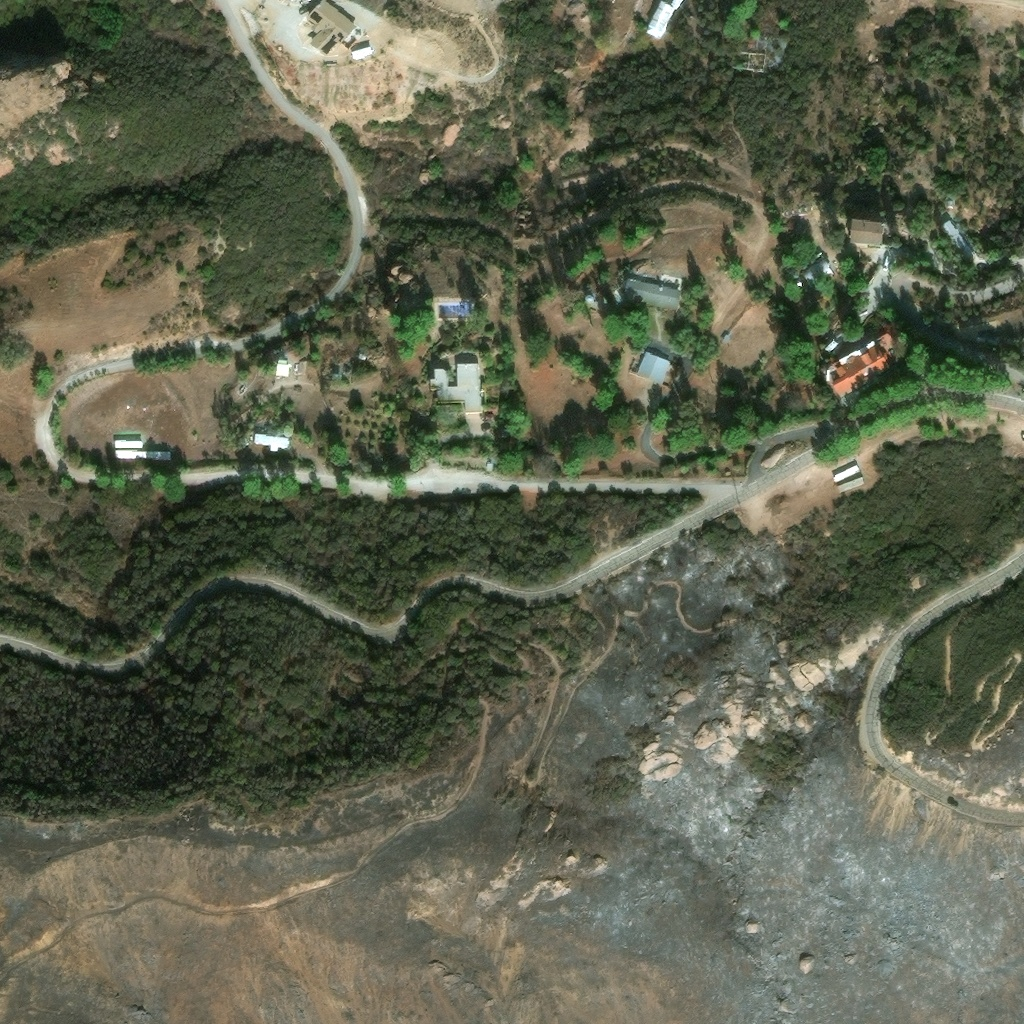0 no-damage: (820, 331, 907, 402), (305, 0, 358, 52), (429, 362, 482, 412), (622, 272, 683, 310), (939, 219, 974, 258), (644, 0, 676, 41), (802, 250, 835, 287), (637, 349, 671, 382), (849, 217, 884, 244), (255, 432, 289, 451), (350, 46, 373, 61), (275, 357, 289, 377), (823, 336, 839, 352), (721, 332, 731, 345), (332, 370, 342, 379), (358, 350, 367, 359), (945, 200, 953, 209), (487, 460, 493, 471)
